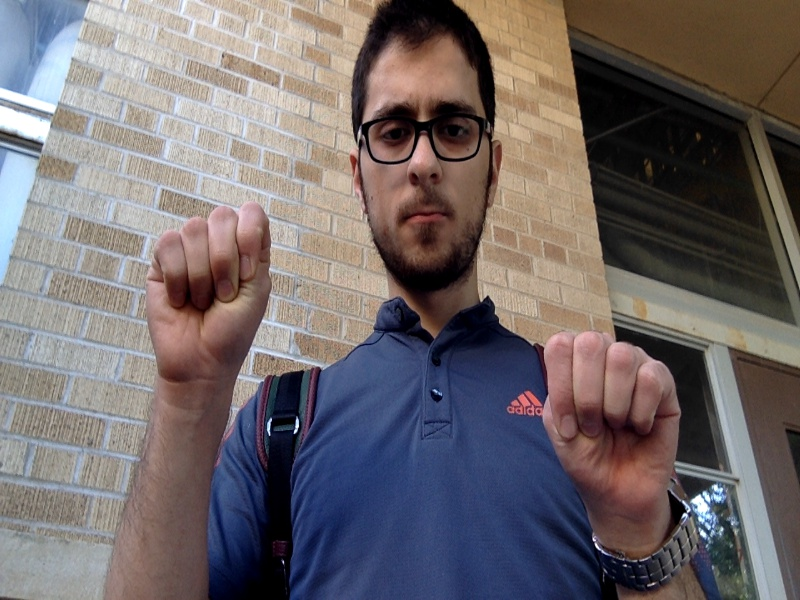0-hand: (543, 330, 679, 505), (145, 204, 269, 380)
